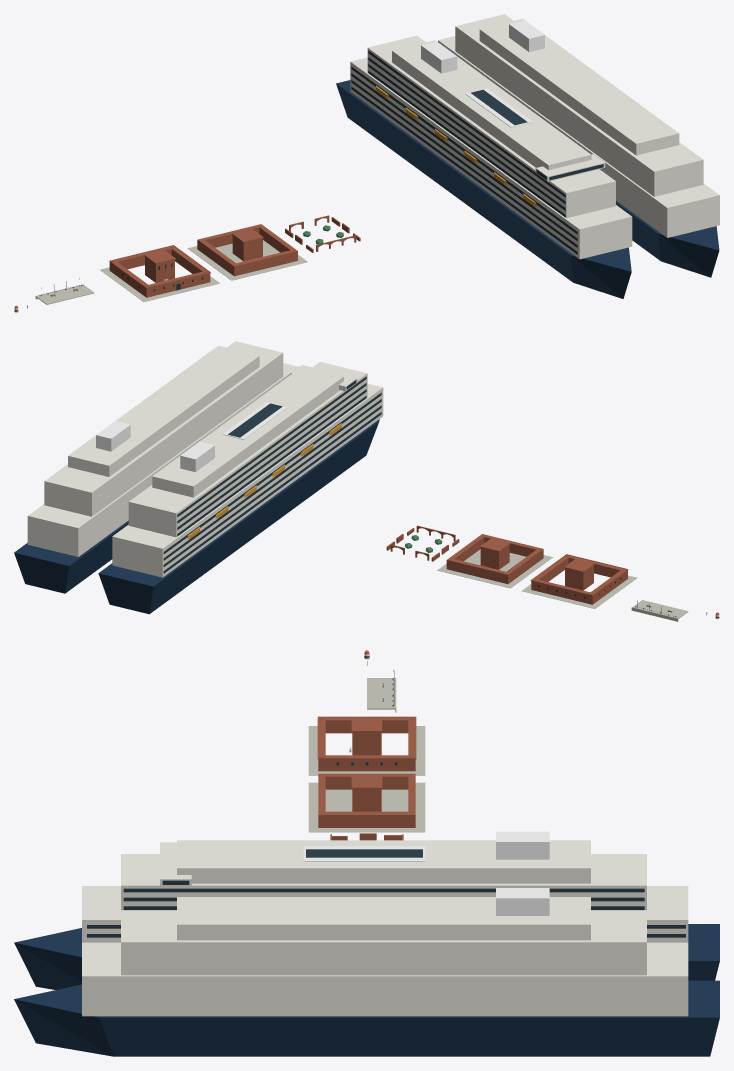
Rendered from keys-landmarks.glb.
3 renders of one model, top to bottom at view 1: azimuth 30°, elevation 25°; view 2: azimuth 150°, elevation 25°; view 3: azimuth 270°, elevation 25°, orthographic. The views are drawn at different scales.
Parts seen in each view (by area): view 1: cruise_ship_lod0_body, cruise_ship_lod1_body, east_martello_lod1_body, east_martello_lod0_body, west_martello_body, mallory_pier_body; view 2: cruise_ship_lod0_body, cruise_ship_lod1_body, east_martello_lod1_body, east_martello_lod0_body, west_martello_body, mallory_pier_body; view 3: cruise_ship_lod1_body, cruise_ship_lod0_body, east_martello_lod1_body, east_martello_lod0_body, mallory_pier_body.
Boxes of the visible parts, box(x1,y1,x2,y2) form: cruise_ship_lod0_body: box(336, 35, 632, 298); cruise_ship_lod1_body: box(438, 14, 719, 277); east_martello_lod1_body: box(187, 224, 307, 280); east_martello_lod0_body: box(100, 245, 219, 301); west_martello_body: box(285, 215, 360, 252); mallory_pier_body: box(35, 278, 94, 304); cruise_ship_lod0_body: box(98, 362, 383, 614); cruise_ship_lod1_body: box(14, 341, 298, 593); east_martello_lod1_body: box(437, 534, 552, 588); east_martello_lod0_body: box(521, 554, 637, 608); west_martello_body: box(386, 525, 459, 561); mallory_pier_body: box(631, 600, 688, 621); cruise_ship_lod1_body: box(14, 888, 719, 1056); cruise_ship_lod0_body: box(14, 831, 719, 989); east_martello_lod1_body: box(308, 773, 425, 832); east_martello_lod0_body: box(308, 716, 425, 775); mallory_pier_body: box(367, 670, 396, 712).
Bounding box in the file's own units: 376 × 68 × 290.
